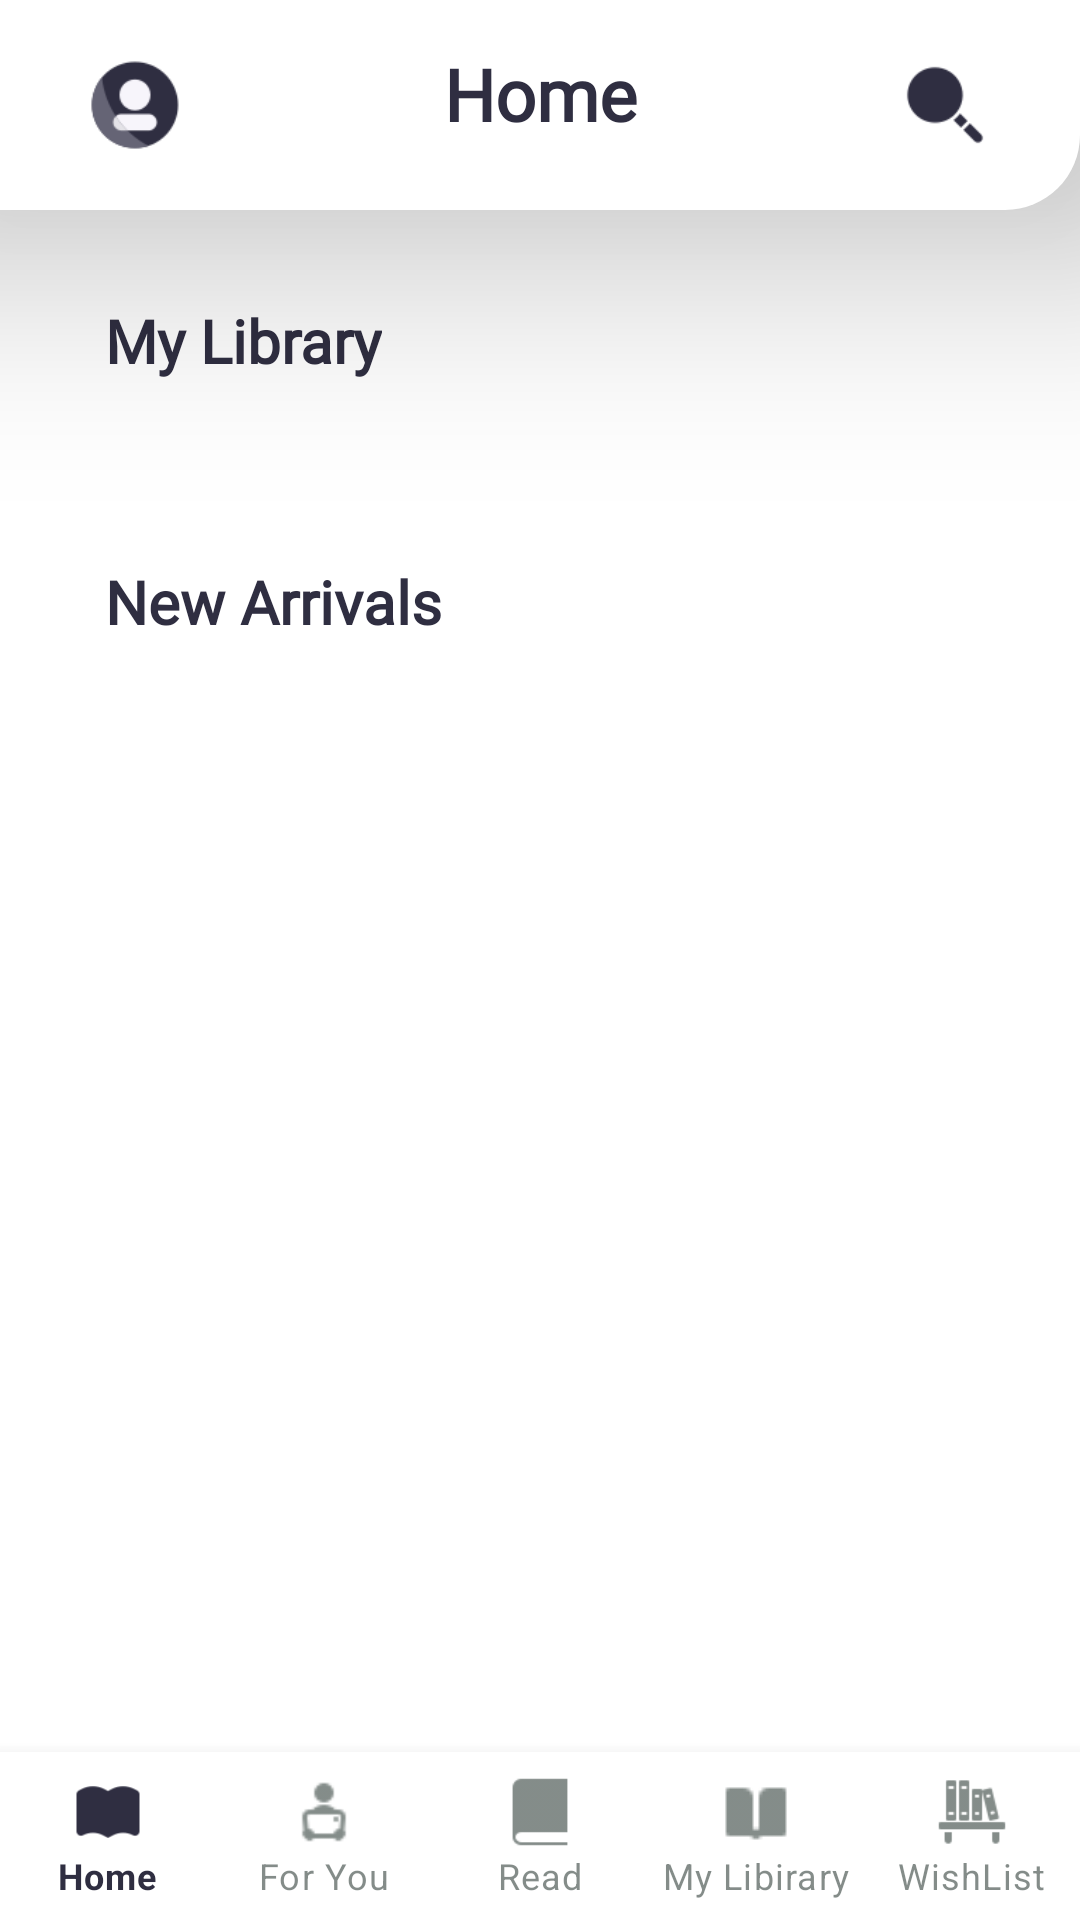

Icon bounding boxes for this 1080w x 1920h phone screenshot, format rect(x1, y1, x2, y2):
profile: rect(91, 61, 179, 149)
search: rect(907, 67, 983, 143)
